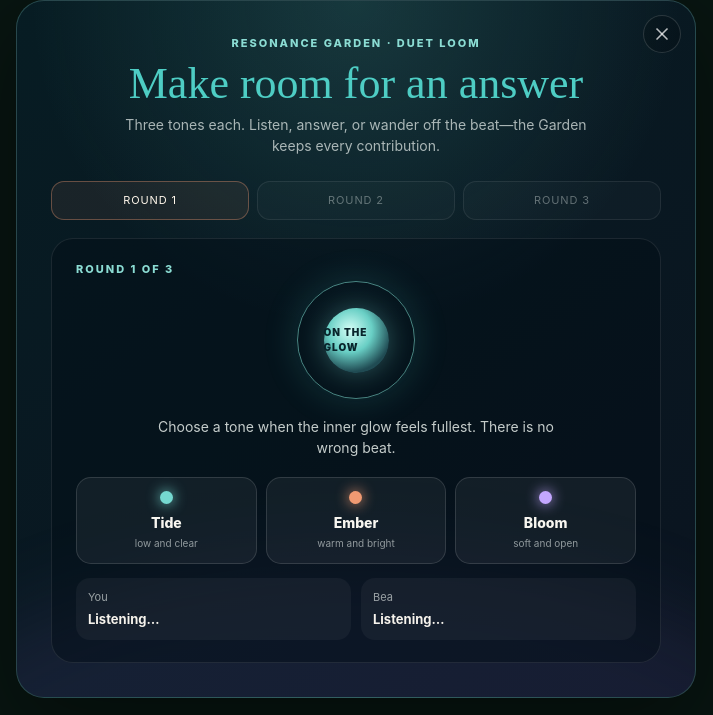
Scenario: ResonanceDuet › submits one optional-audio pulse for the local player
Step 1. Click the button with aria-label "Play Tide" → click(166, 521), box [76,477,257,564]
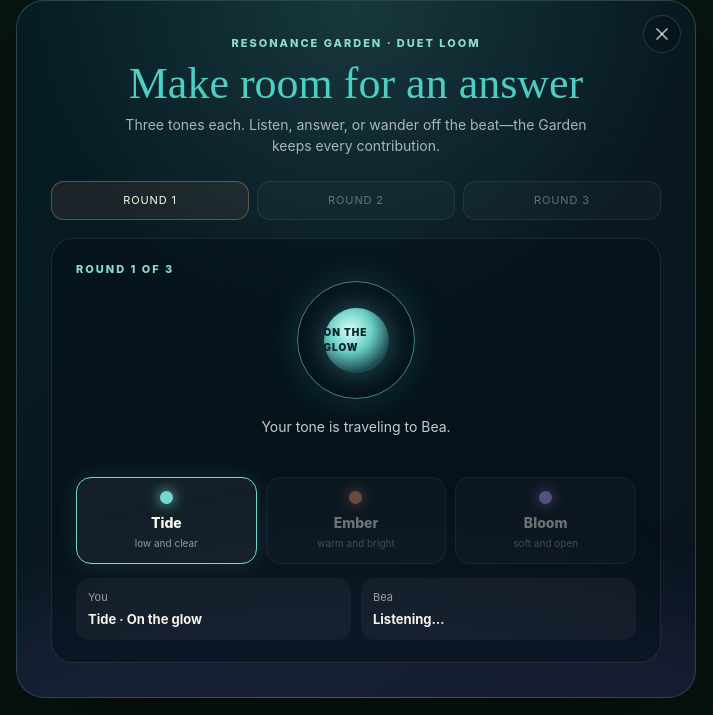
Expected: the text "Your tone is traveling to Bea." is shown, [261,418,451,435]
Expected: the button with aria-label "Play Ember" is disabled, [266,477,446,564]
